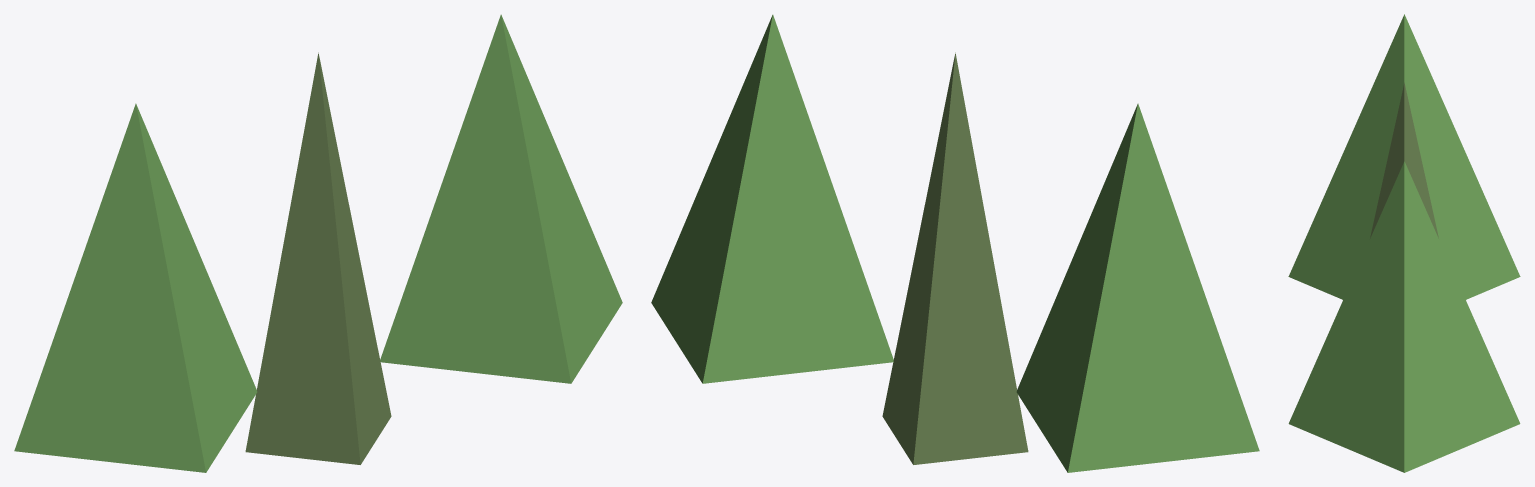
Rendered from prop_crop_1.glb.
3 renders of one model, left to right at view 1: azimuth 30°, elevation 25°; view 2: azimuth 150°, elevation 25°; view 3: azimuth 270°, elevation 25°, orthographic. The views are drawn at different scales.
Parts seen in each view (by area): view 1: prop_crop_1; view 2: prop_crop_1; view 3: prop_crop_1.
Part boxes in pixels (bbox=[...]): prop_crop_1: bbox=[14, 14, 622, 472]; prop_crop_1: bbox=[651, 14, 1259, 472]; prop_crop_1: bbox=[1288, 14, 1520, 472].
Size of the model in its own units: 0.5 by 0.3 by 0.2.
Materials: 1 (1 with a texture image).
